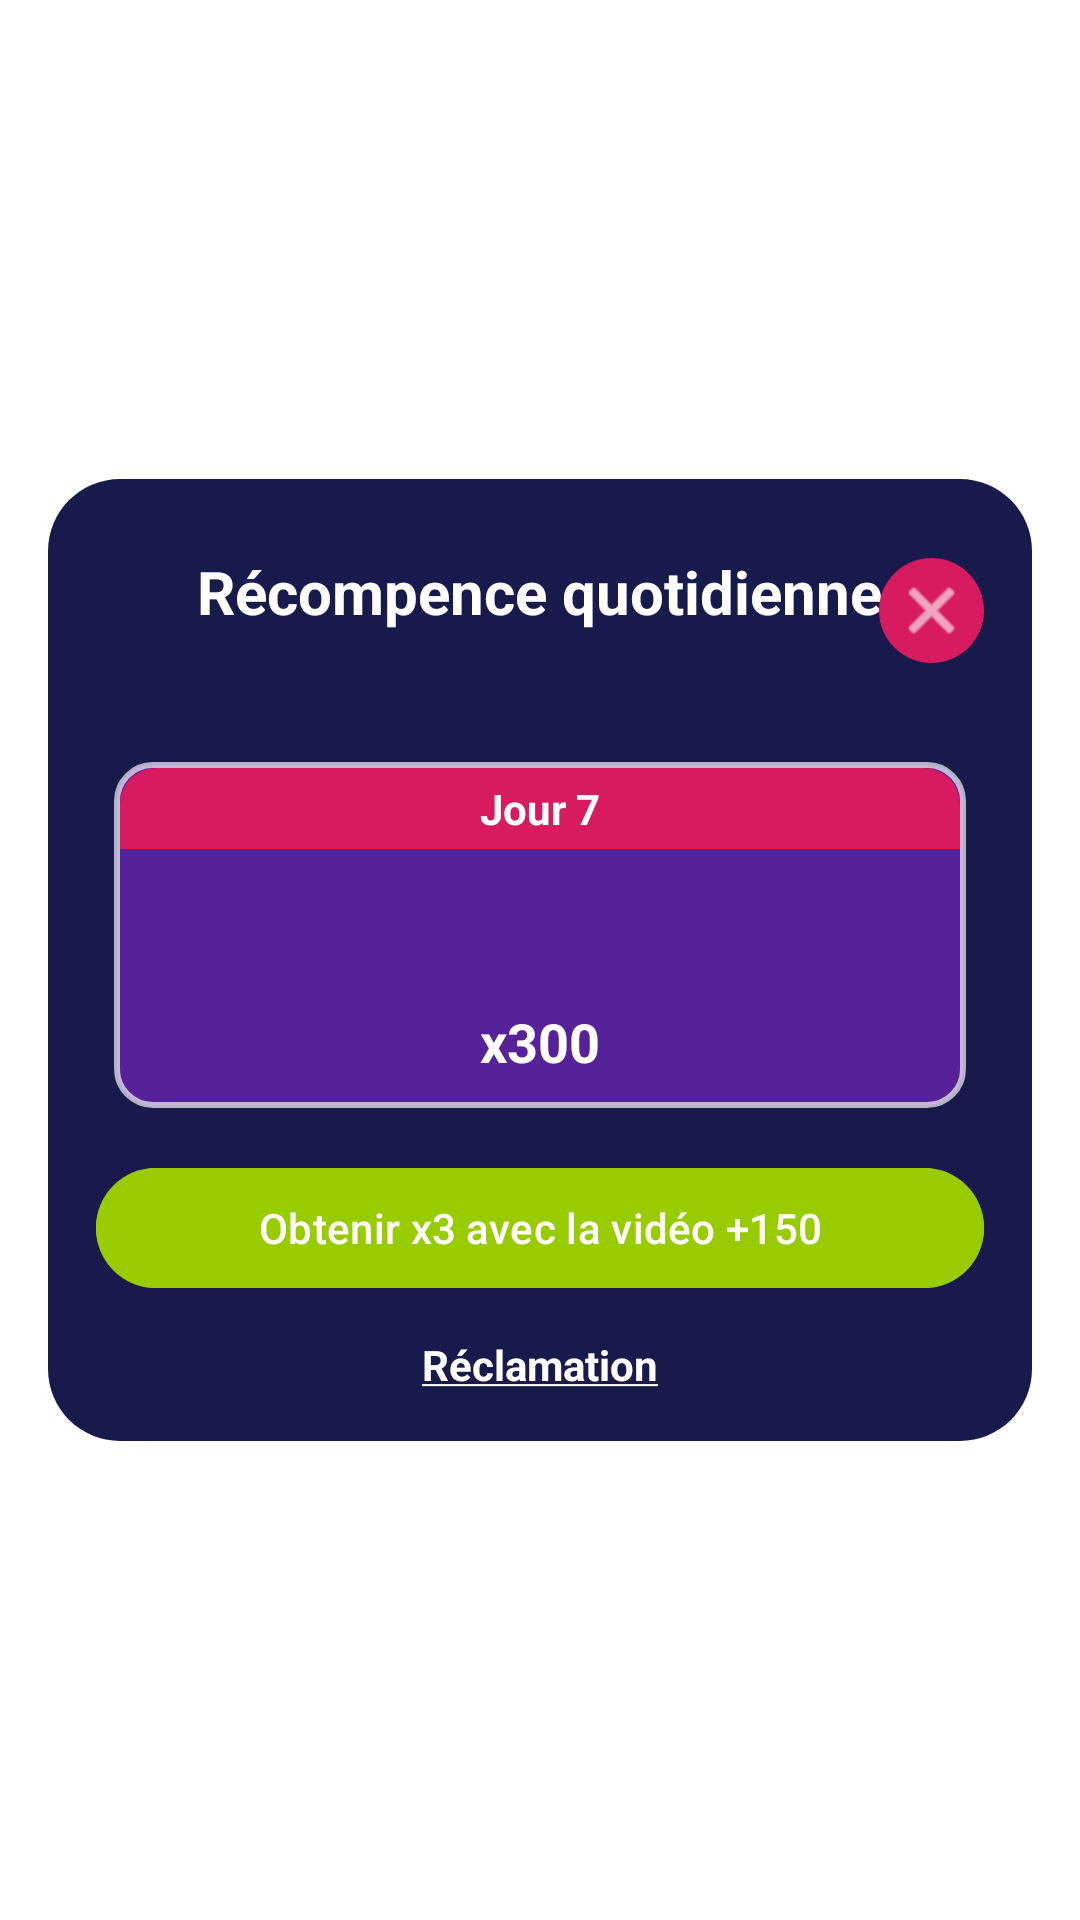

Icon bounding boxes for this 1080w x 1920h phone screenshot, format bbox=[x1, y1, x2, y2]:
close clear cancel: bbox=[879, 558, 984, 663]
